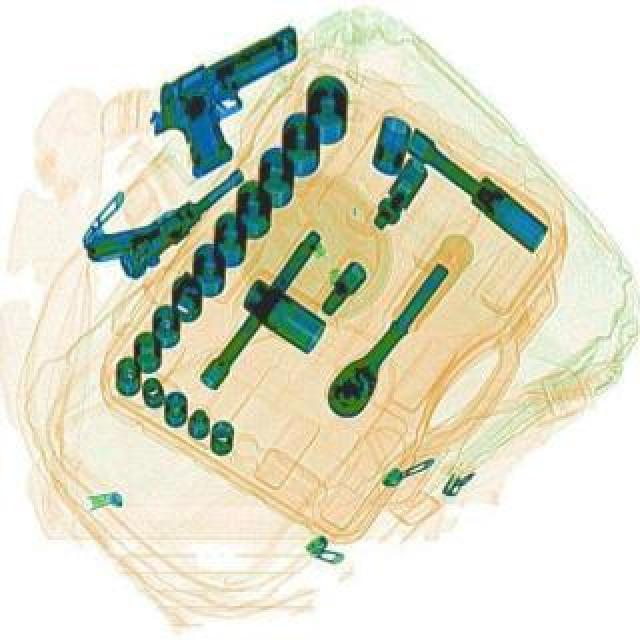gun: (130, 22, 338, 184), (76, 130, 250, 292)
